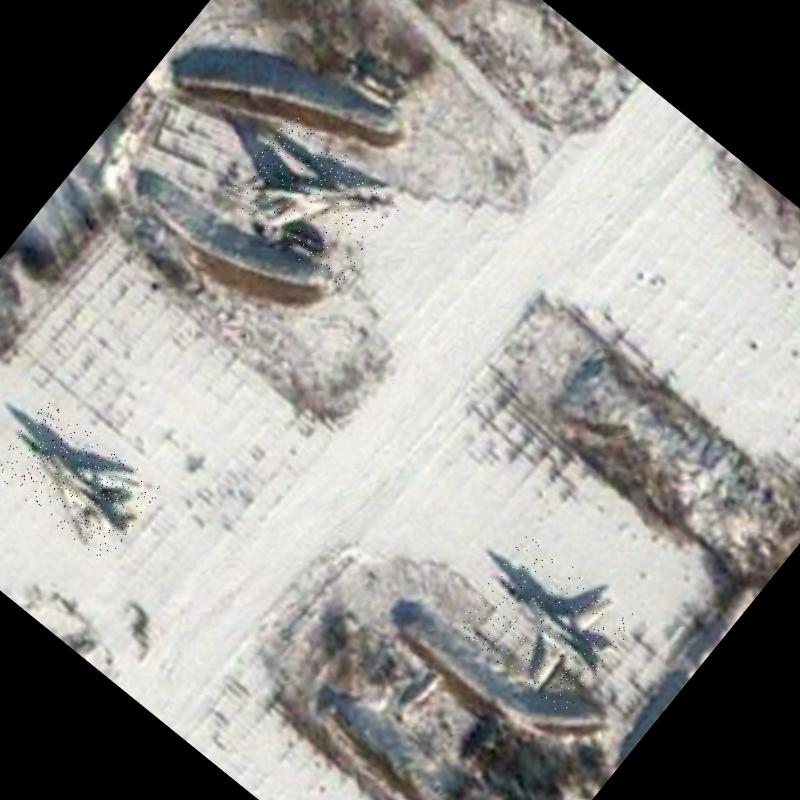A12: (451, 530, 640, 716), (221, 111, 406, 290), (0, 396, 163, 563)
